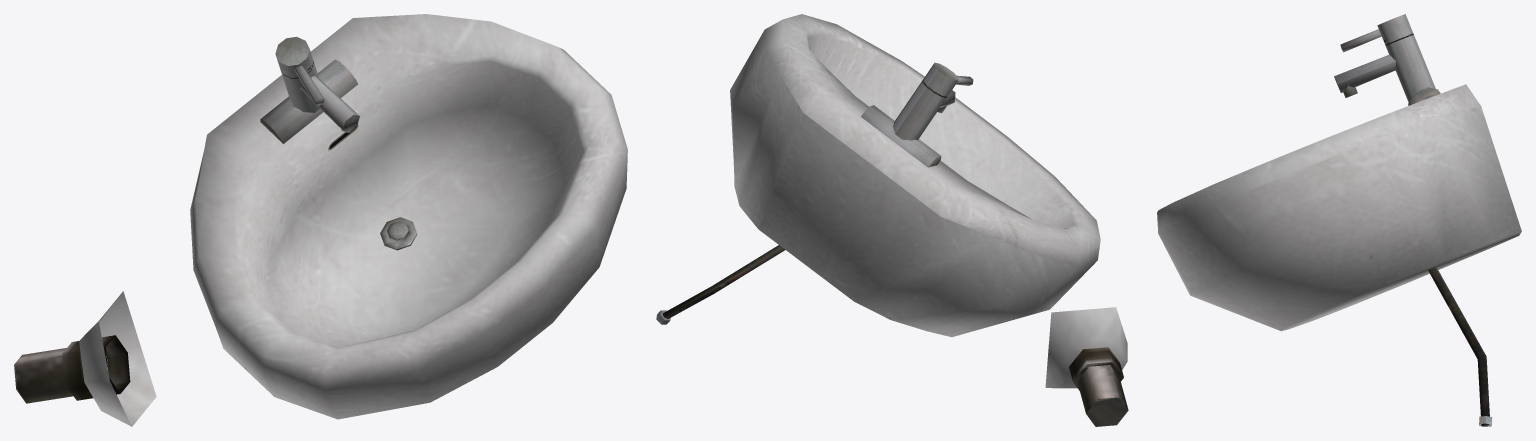
File: bathroom_props_washbasin_broken2.fbx
3 renders of one model, left to right at view 1: azimuth 30°, elevation 25°; view 2: azimuth 150°, elevation 25°; view 3: azimuth 270°, elevation 25°, orthographic. The views are drawn at different scales.
Visible parts, largest first — view 1: Box01; view 2: Box01; view 3: Box01.
Boxes of the visible parts, <box> form: Box01: <box>14,14,627,426</box>; Box01: <box>656,14,1128,426</box>; Box01: <box>1157,14,1521,426</box>.
Bounding box in the file's own units: 1.1 × 0.666 × 0.7299.
